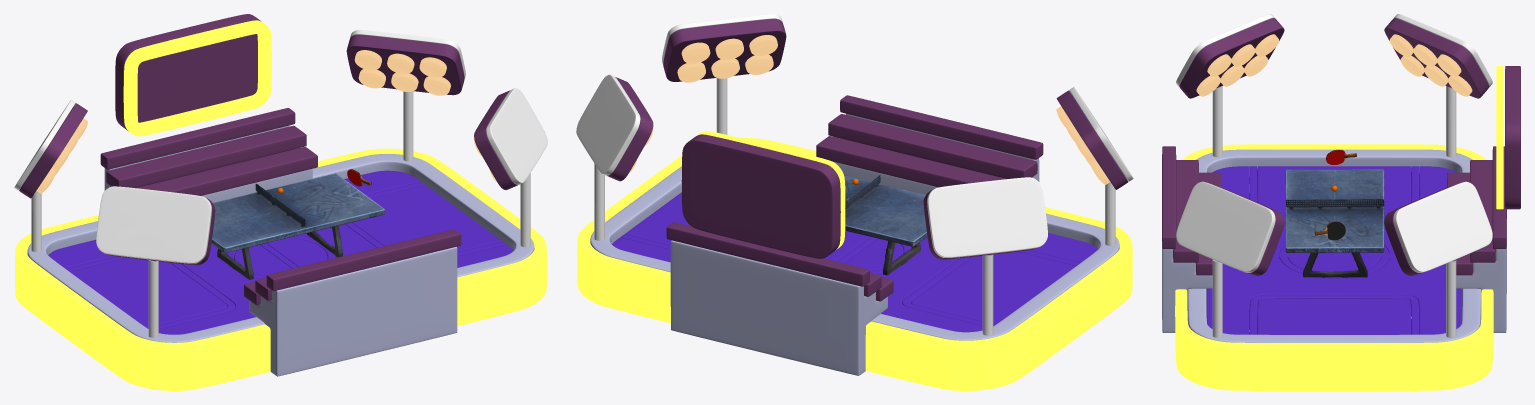
Rendered from game3d.glb.
3 views of the same model, side by side, from view 1: azimuth 30°, elevation 25°; view 2: azimuth 150°, elevation 25°; view 3: azimuth 270°, elevation 25° (orthographic). The views are drawn at different scales.
Visible parts, largest first — view 1: lights, outline2, floor, strcutureStair, stair, scoreBoard, outline1, table, pole, line; view 2: lights, outline2, strcutureStair, stair, scoreBoard, floor, outline1, table, pole, line; view 3: lights, floor, outline2, table, outline1, stair, strcutureStair, scoreBoard, pole, line, r_paddle.
Part boxes in pixels (x1,y1,x2,y2): lights: (14,30,547,265); outline2: (15,148,546,390); floor: (48,170,513,334); strcutureStair: (104,125,457,376); stair: (100,108,461,305); scoreBoard: (115,14,271,136); outline1: (27,154,534,342); table: (211,173,384,279); pole: (31,91,530,337); line: (65,181,505,328); lights: (576,14,1133,259); outline2: (577,138,1132,390); strcutureStair: (670,113,1039,375); stair: (666,95,1043,301); scoreBoard: (681,131,845,258); floor: (612,192,1097,332); outline1: (590,166,1119,340); table: (844,175,927,275); pole: (594,78,1115,335); line: (620,230,1080,325); lights: (1176,14,1492,275); floor: (1206,166,1462,334); outline2: (1175,144,1493,390); table: (1285,169,1384,277); outline1: (1187,149,1481,342); stair: (1162,146,1506,275); strcutureStair: (1162,219,1506,332); scoreBoard: (1496,66,1520,209); pole: (1212,86,1456,337); line: (1249,166,1419,334); r_paddle: (1314,221,1345,240).
Bounding box in the file's own units: 8.35 × 3.48 × 5.8.
Materials: 14 (5 with a texture image).
